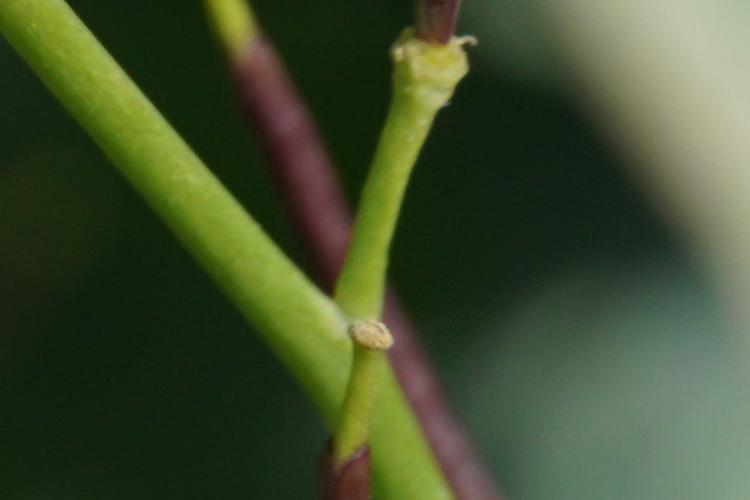pod: (210, 3, 512, 500), (292, 305, 402, 500), (377, 7, 482, 110)
